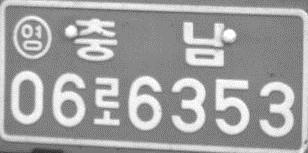0: (10, 68, 44, 126)
3: (169, 77, 206, 134), (258, 81, 295, 138)
5: (214, 78, 251, 135)
6: (126, 75, 163, 131), (50, 72, 86, 128)
로: (92, 76, 122, 128)
영: (11, 15, 52, 60)
충남_D: (73, 17, 226, 68)
